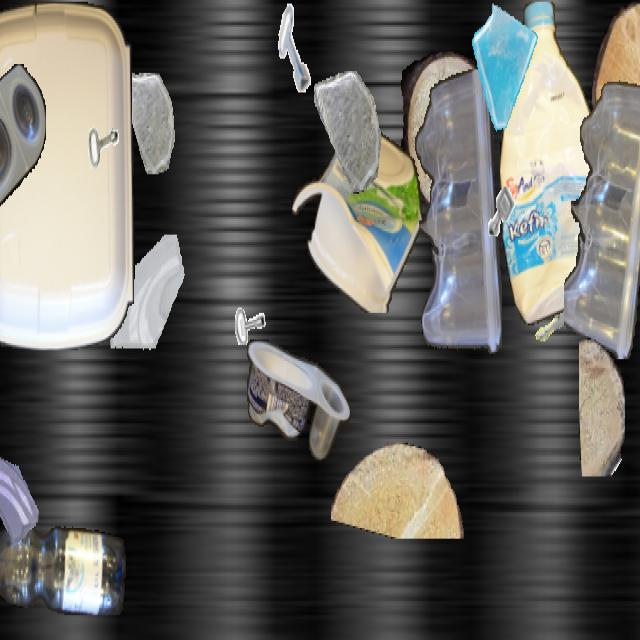glass: (108, 234, 190, 380), (468, 2, 542, 133), (314, 71, 382, 192), (120, 73, 176, 172), (0, 441, 38, 555)
metal: (69, 73, 129, 179), (518, 271, 576, 374), (270, 2, 322, 94), (225, 265, 269, 343), (480, 174, 522, 249)
plastic: (0, 2, 134, 350), (500, 2, 602, 325), (412, 69, 502, 361), (292, 124, 422, 313), (564, 73, 640, 357), (247, 340, 349, 460), (0, 519, 126, 615), (0, 64, 46, 217)
wood: (398, 52, 494, 212), (331, 442, 467, 538), (592, 2, 640, 194), (579, 338, 625, 476)
